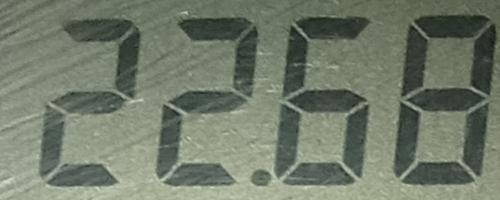.: (250, 163, 275, 195)
